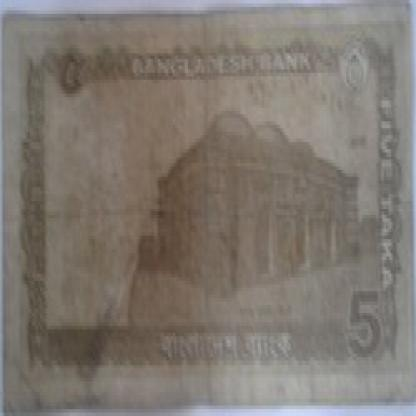Five Taka: (339, 274, 388, 381), (45, 35, 95, 114)
